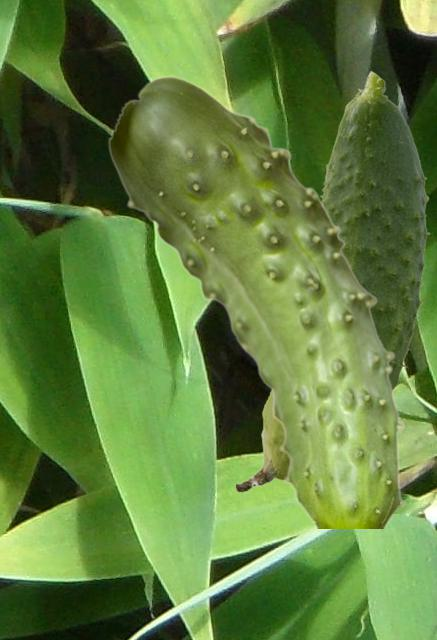cucumber: (107, 75, 406, 527), (235, 71, 429, 491)
